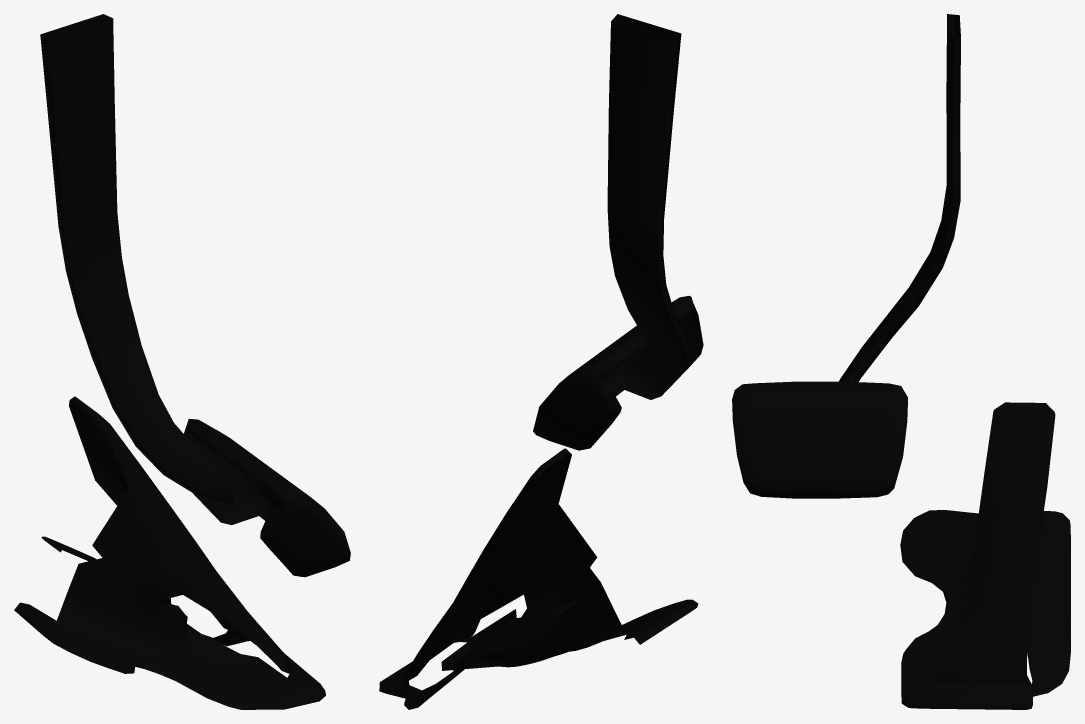
File: SM_Car_YiBiao4.FBX
3 views of the same model, side by side, from view 1: azimuth 30°, elevation 25°; view 2: azimuth 150°, elevation 25°; view 3: azimuth 270°, elevation 25° (orthographic). The views are drawn at different scales.
Visible parts, largest first — view 1: sahche; view 2: sahche; view 3: sahche.
Boxes of the visible parts, x1,y1,x2,y2 form: sahche: (14, 14, 350, 709); sahche: (379, 14, 703, 709); sahche: (732, 14, 1070, 709).
Size of the model in its own units: 19.4 by 48.8 by 25.28.
